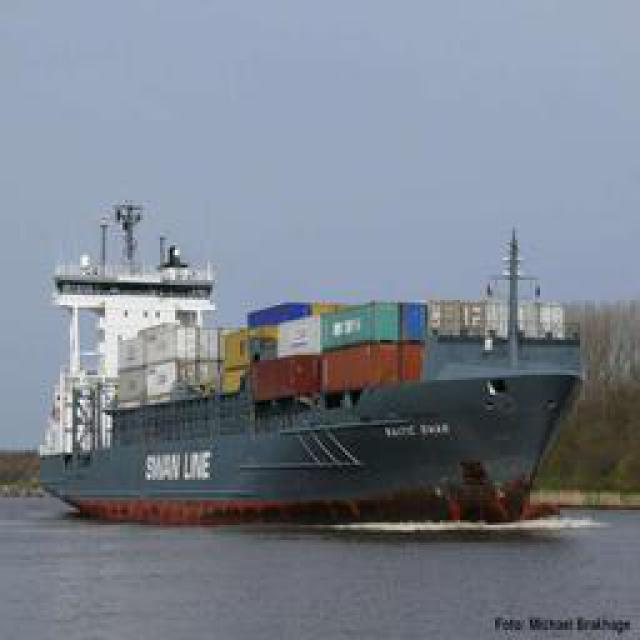Ship: (32, 192, 605, 510)
